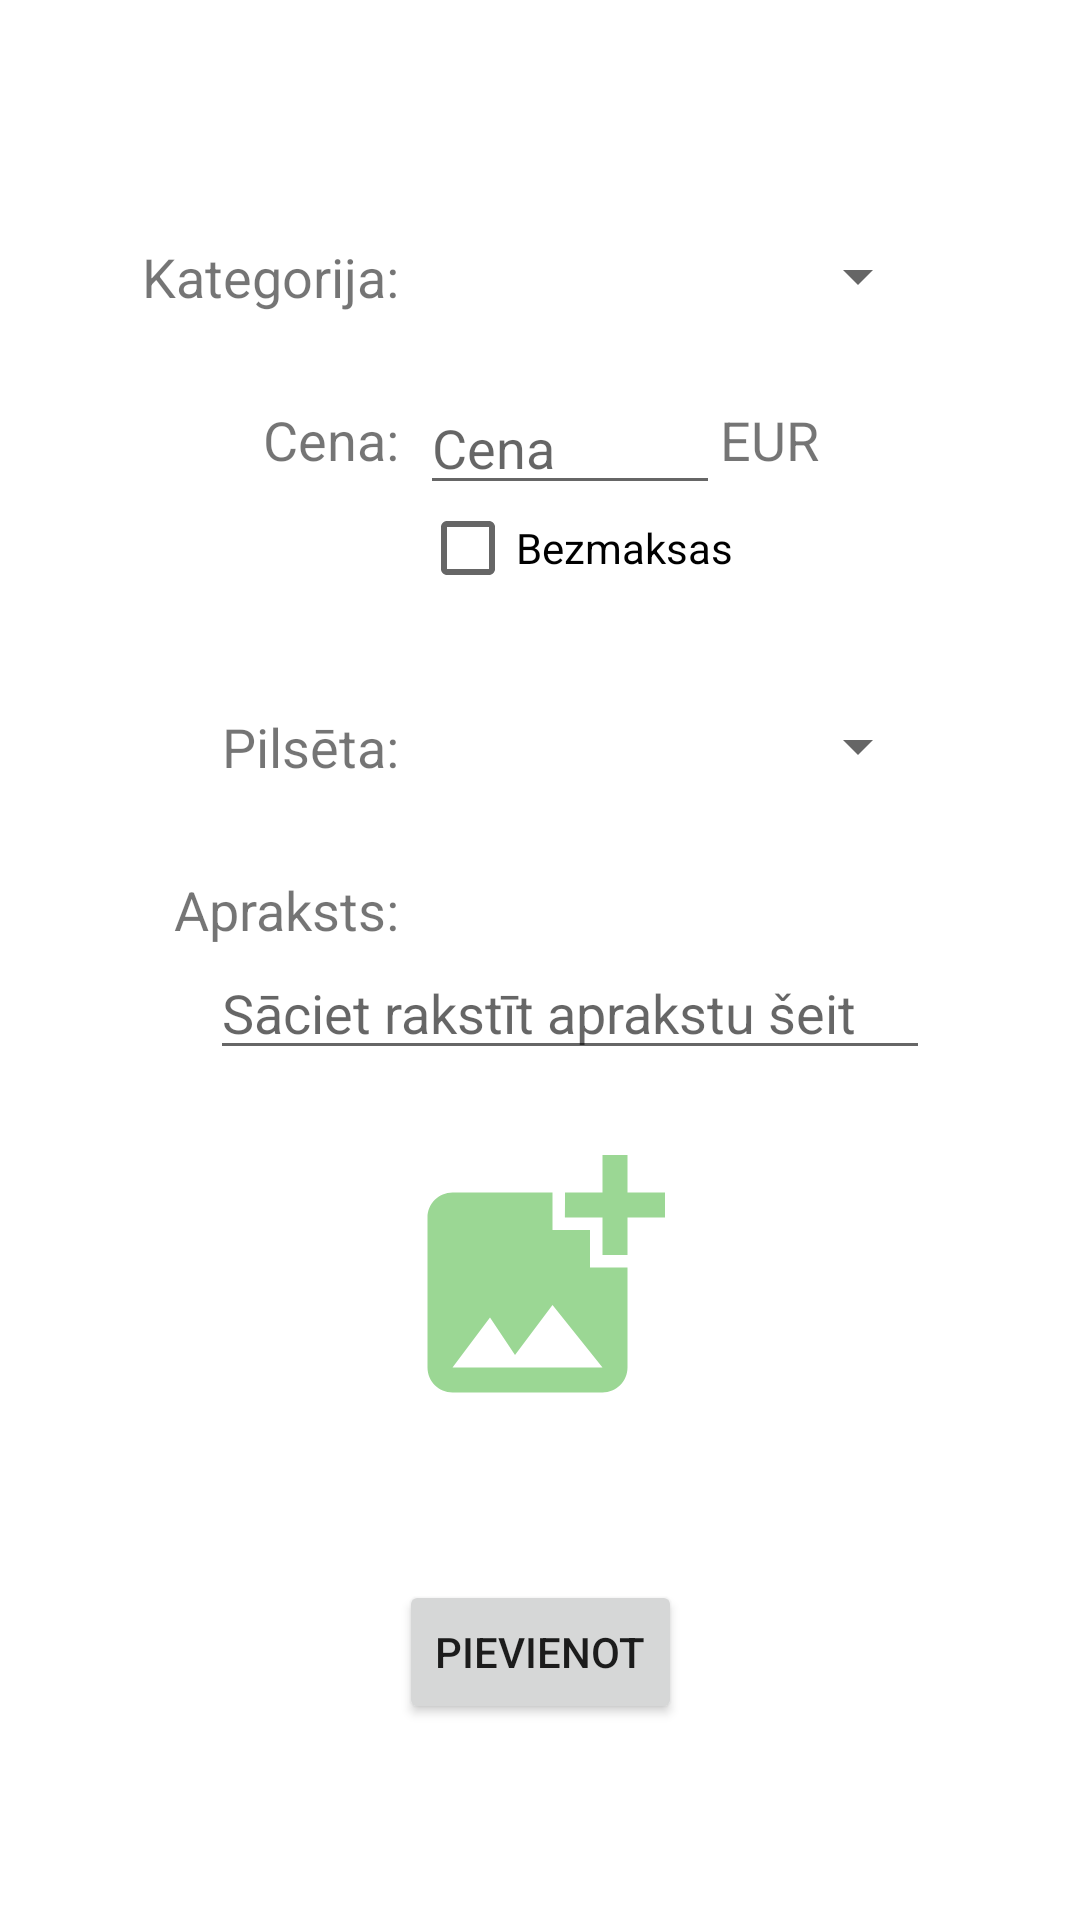

Named icons in this screenshot (1080 × 1920) and their centers, [x,y]:
add photo alternate: [546,1274]
